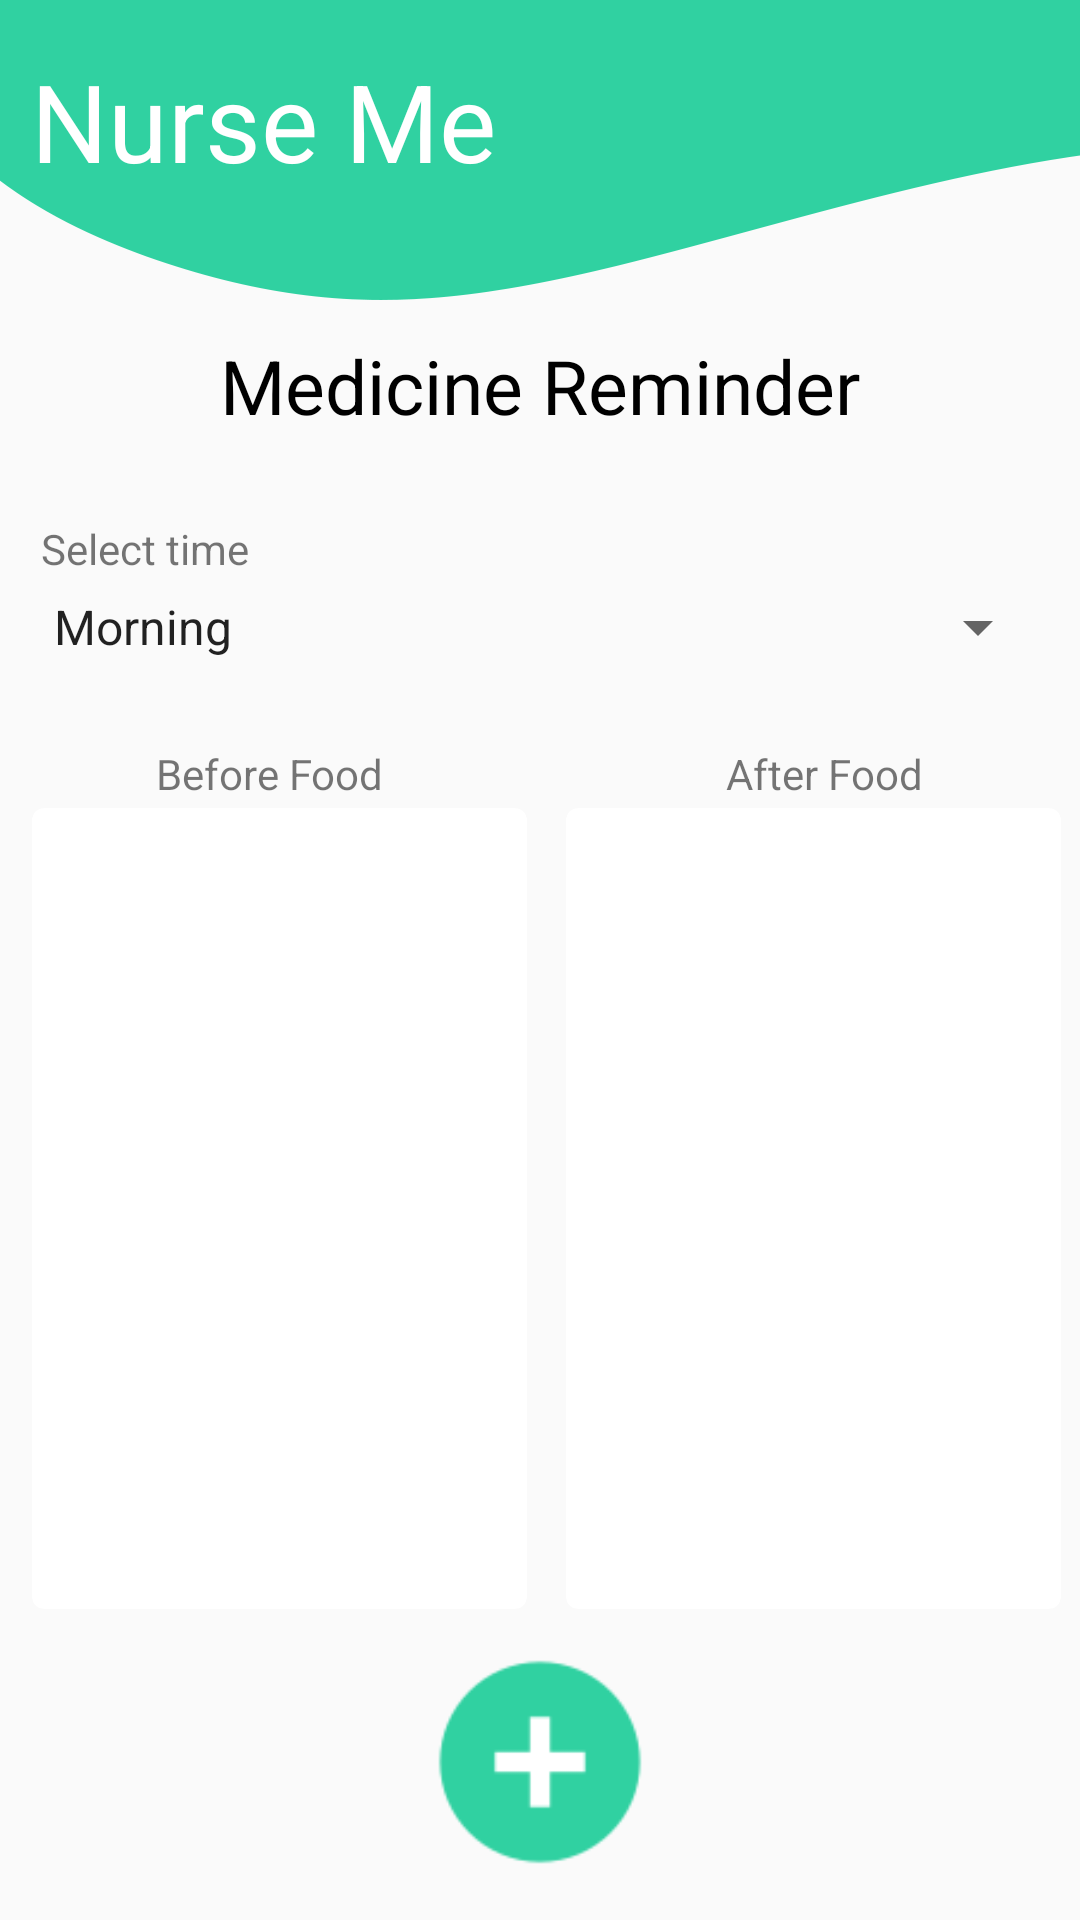

Point at icon controls on the screen. Image size 1080 x 1920, points as point (x, y).
add: point (540, 1762)
